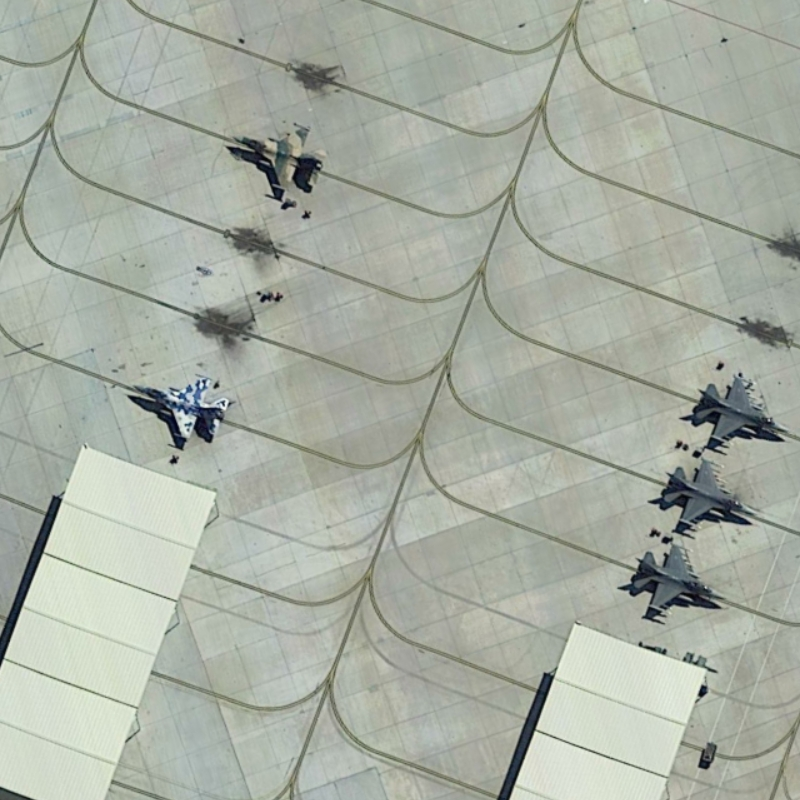A5: (681, 364, 794, 461), (616, 533, 730, 628), (650, 450, 762, 539), (120, 366, 237, 449), (230, 119, 335, 203)
